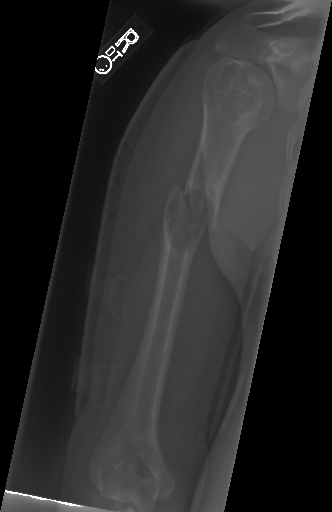fracture: (158, 162, 222, 264)
